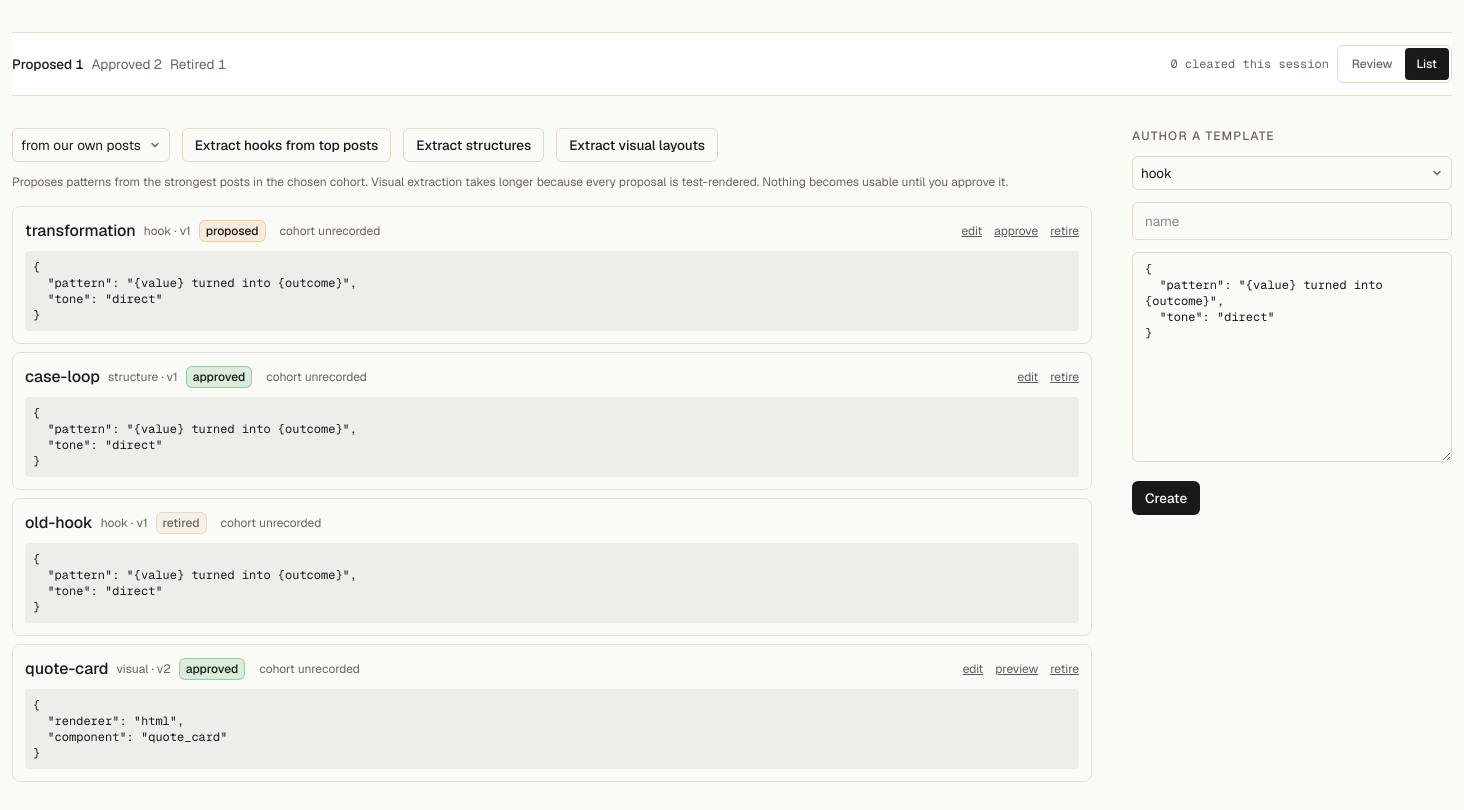
Scenario: editing writes a new version › goes back to authoring once the version is written
Click the button "edit" in the row of "quote-card": (973, 669) [963,661,983,677]
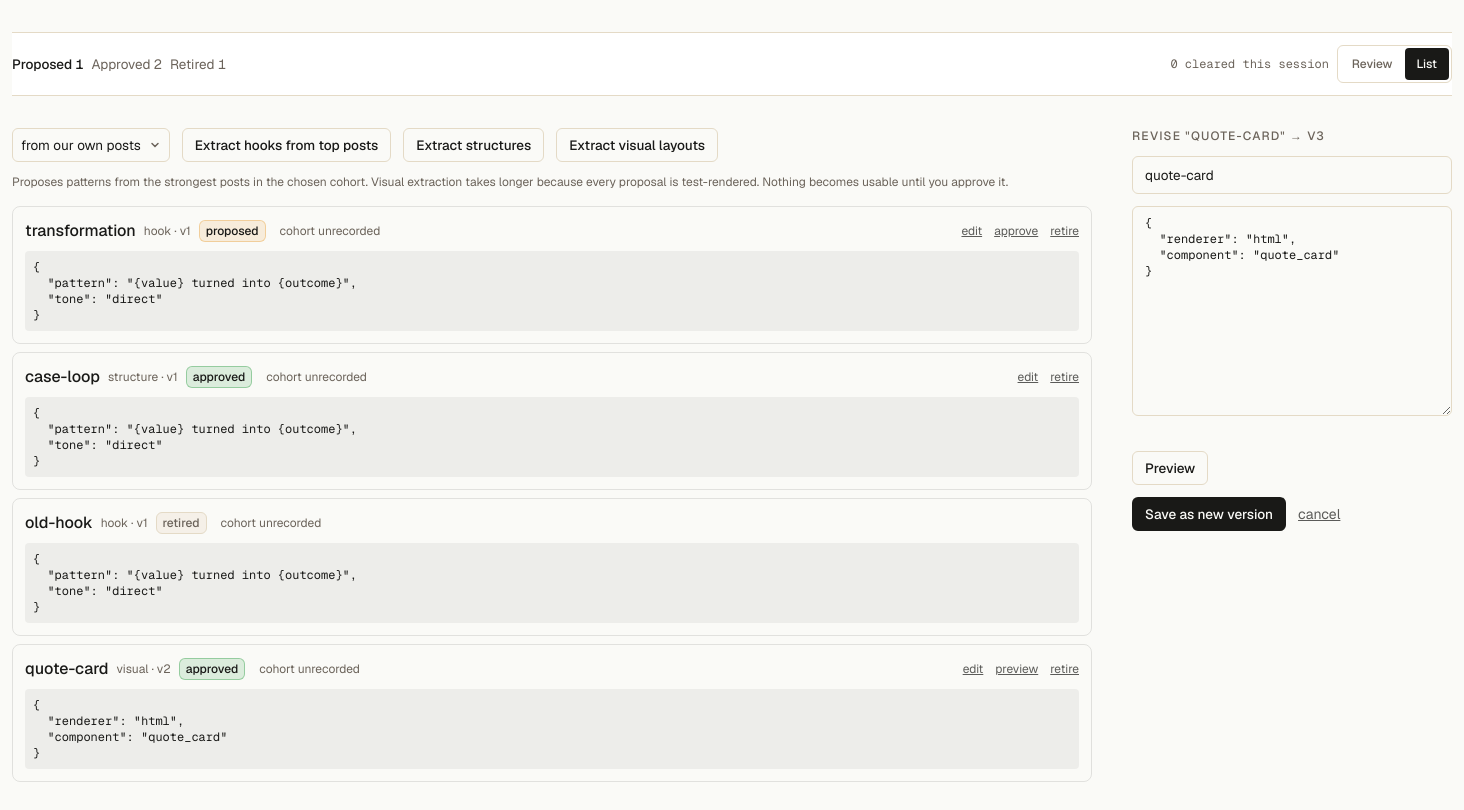
Click the button "Save as new version": (1209, 514) [1132,497,1286,531]
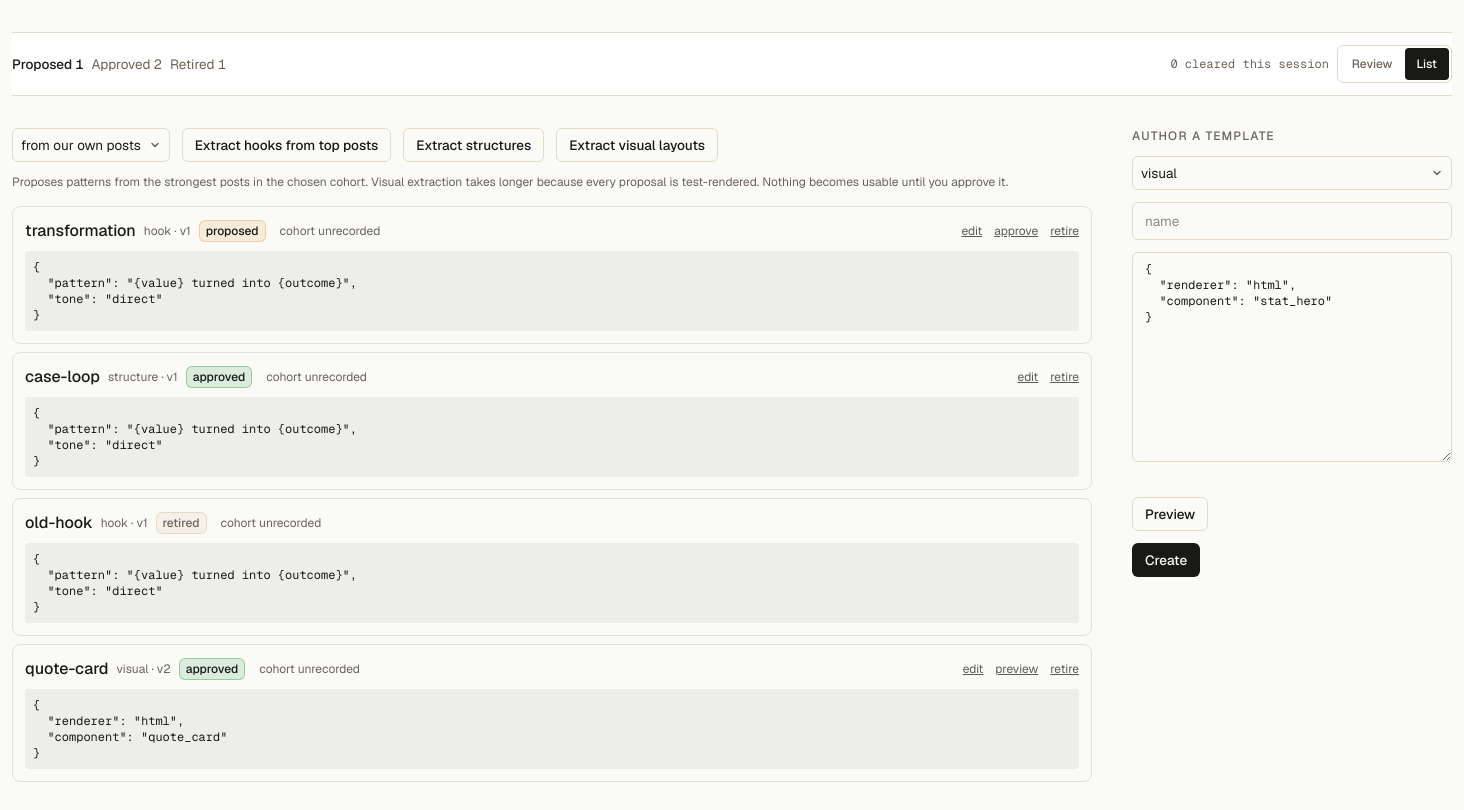
Expected: the heading reads "Author a template", [1132,128,1275,144]
Expected: the dropdown named "template kind" is shown, [1132,156,1452,190]
Expected: the field with placeholder "name" is empty, [1132,202,1452,240]
